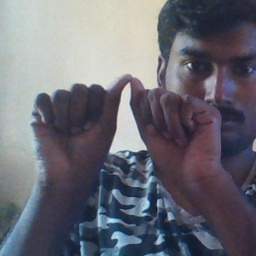A: (47, 71, 203, 176)
